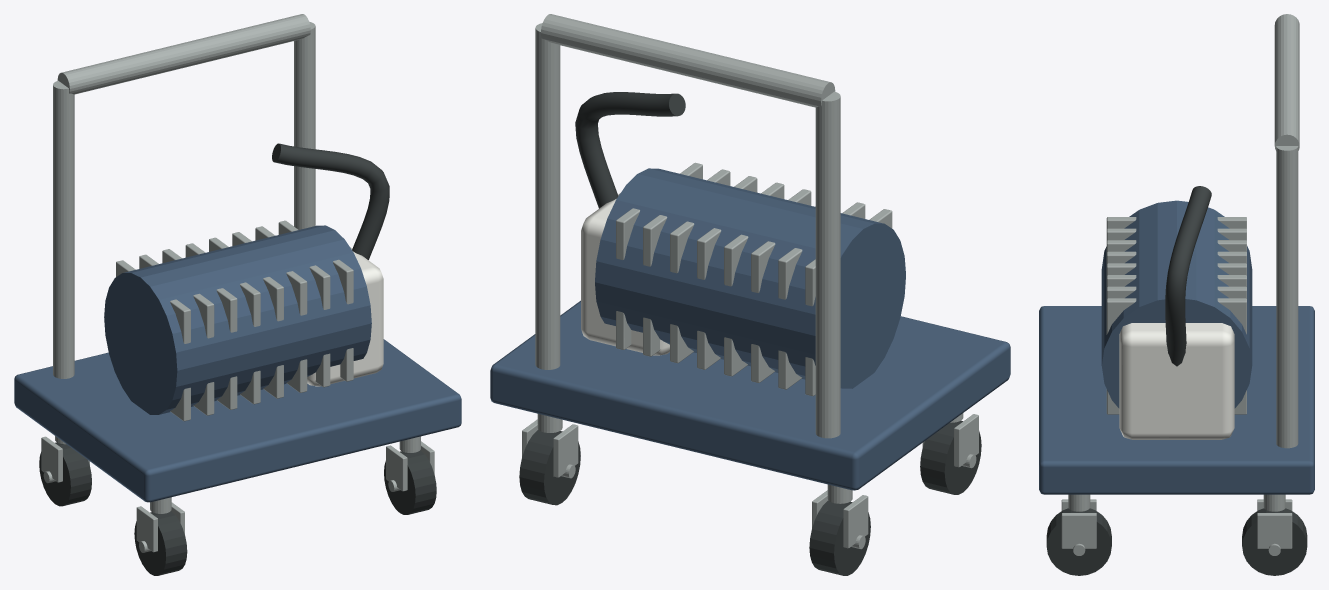
File: spacecraft-parachute-packing-hall-spacecraft-parachute-838600a8__32096.glb
3 views of the same model, side by side, from view 1: azimuth 30°, elevation 25°; view 2: azimuth 150°, elevation 25°; view 3: azimuth 270°, elevation 25° (orthographic). The views are drawn at different scales.
Visible parts, largest first — view 1: spacecraft-parachute-packing-hall-vacuum-pump-cart; view 2: spacecraft-parachute-packing-hall-vacuum-pump-cart; view 3: spacecraft-parachute-packing-hall-vacuum-pump-cart.
Boxes of the visible parts, x1,y1,x2,y2 form: spacecraft-parachute-packing-hall-vacuum-pump-cart: [14, 14, 461, 575]; spacecraft-parachute-packing-hall-vacuum-pump-cart: [490, 14, 1010, 575]; spacecraft-parachute-packing-hall-vacuum-pump-cart: [1039, 14, 1314, 575].
Bounding box in the file's own units: 0.75 × 0.955 × 0.55.
